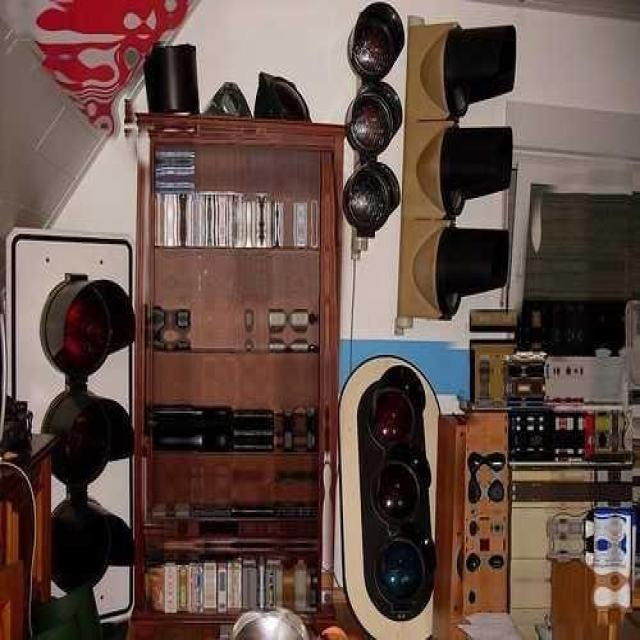Traffic Light -Off-: (3, 215, 145, 626), (332, 345, 463, 640), (412, 4, 516, 334), (341, 0, 408, 235)
